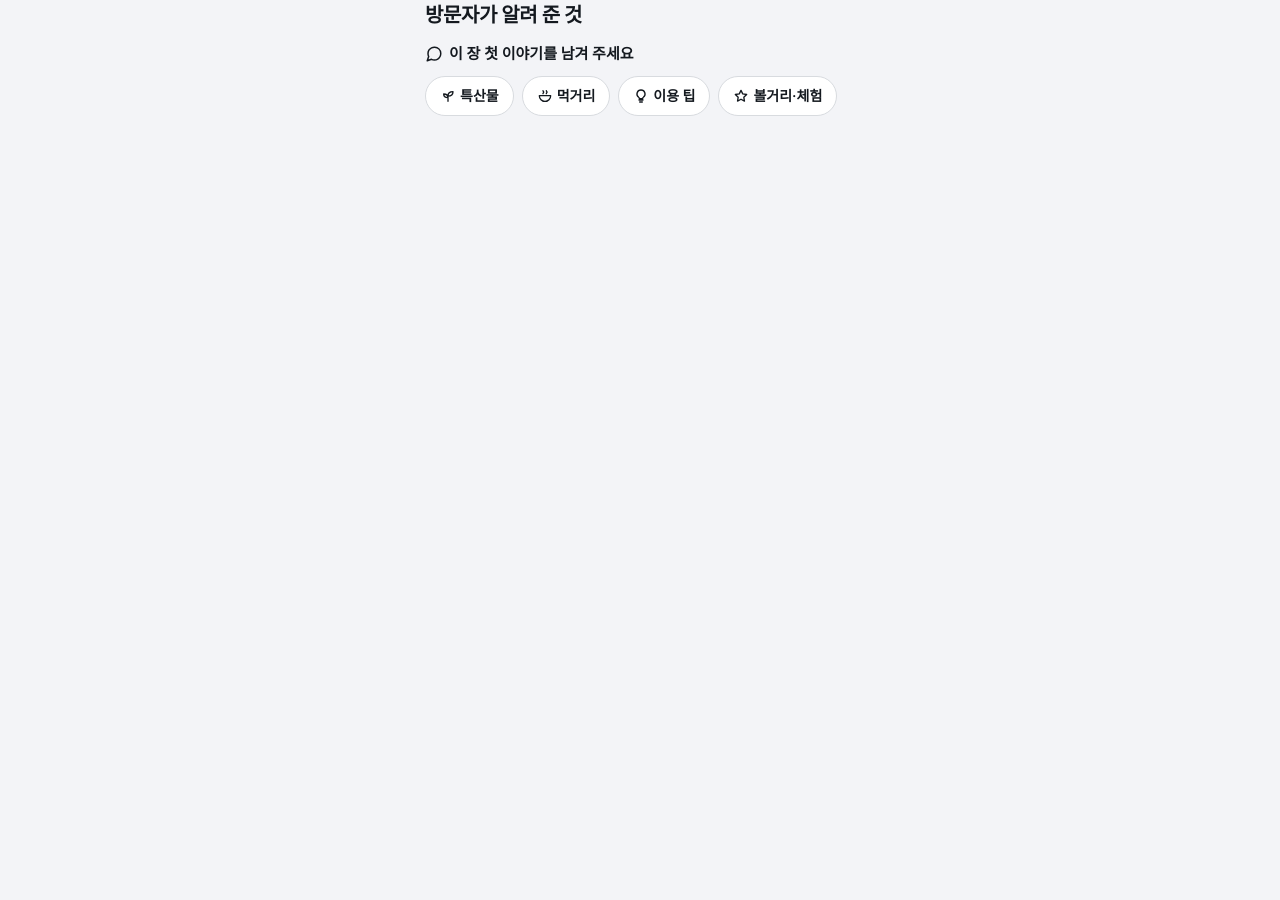
Test case: MarketHighlights › previews the map marker after sending and continues with a nearby market
The width and height of the screenshot is (1280, 900).
Step 1. Click the button with aria-label "특산물 알려 주기" → coordinates (469, 96), box [425, 76, 514, 116]
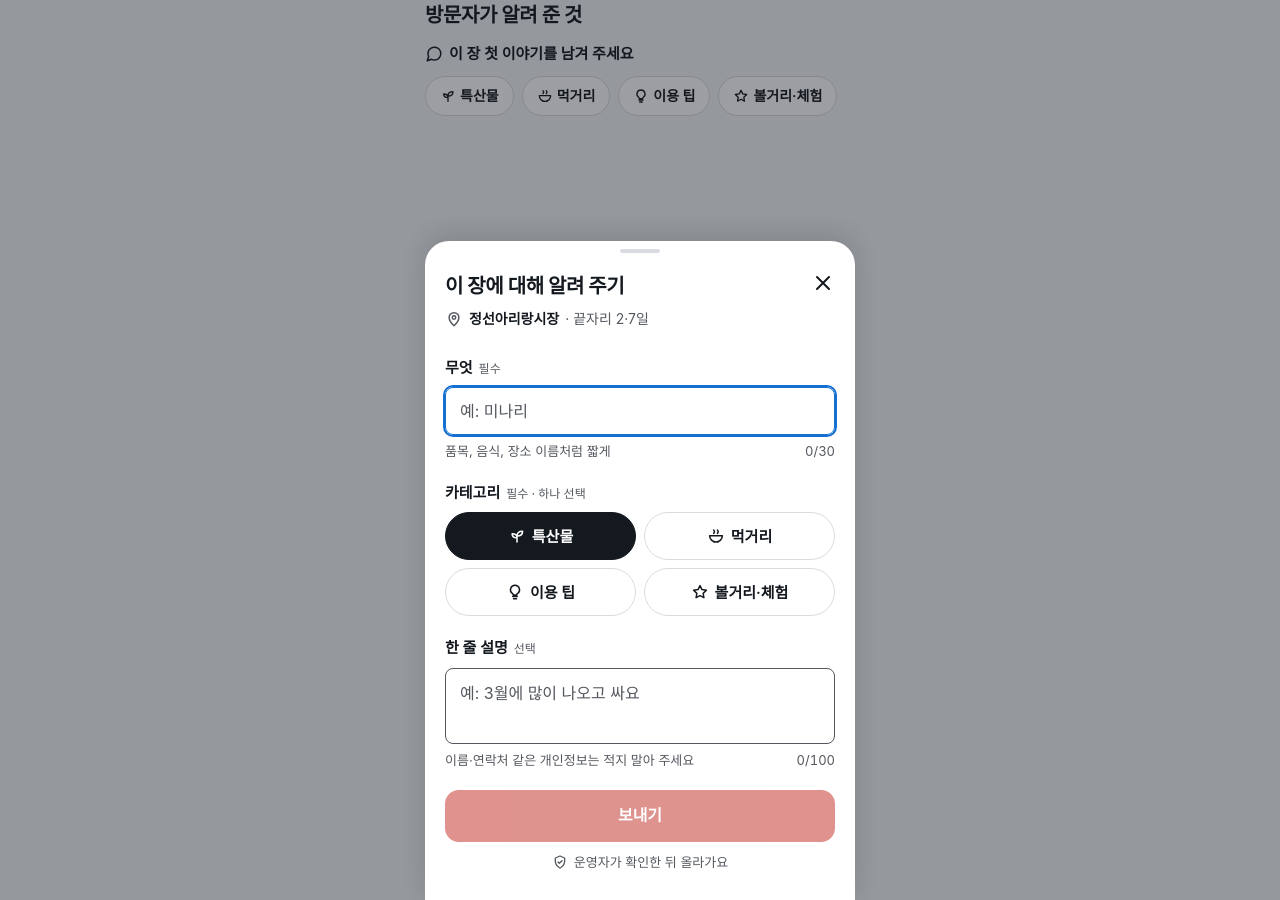
Step 2. Type "곤드레" into the field labelled "무엇 필수" → coordinates (640, 411), box [445, 387, 835, 435]
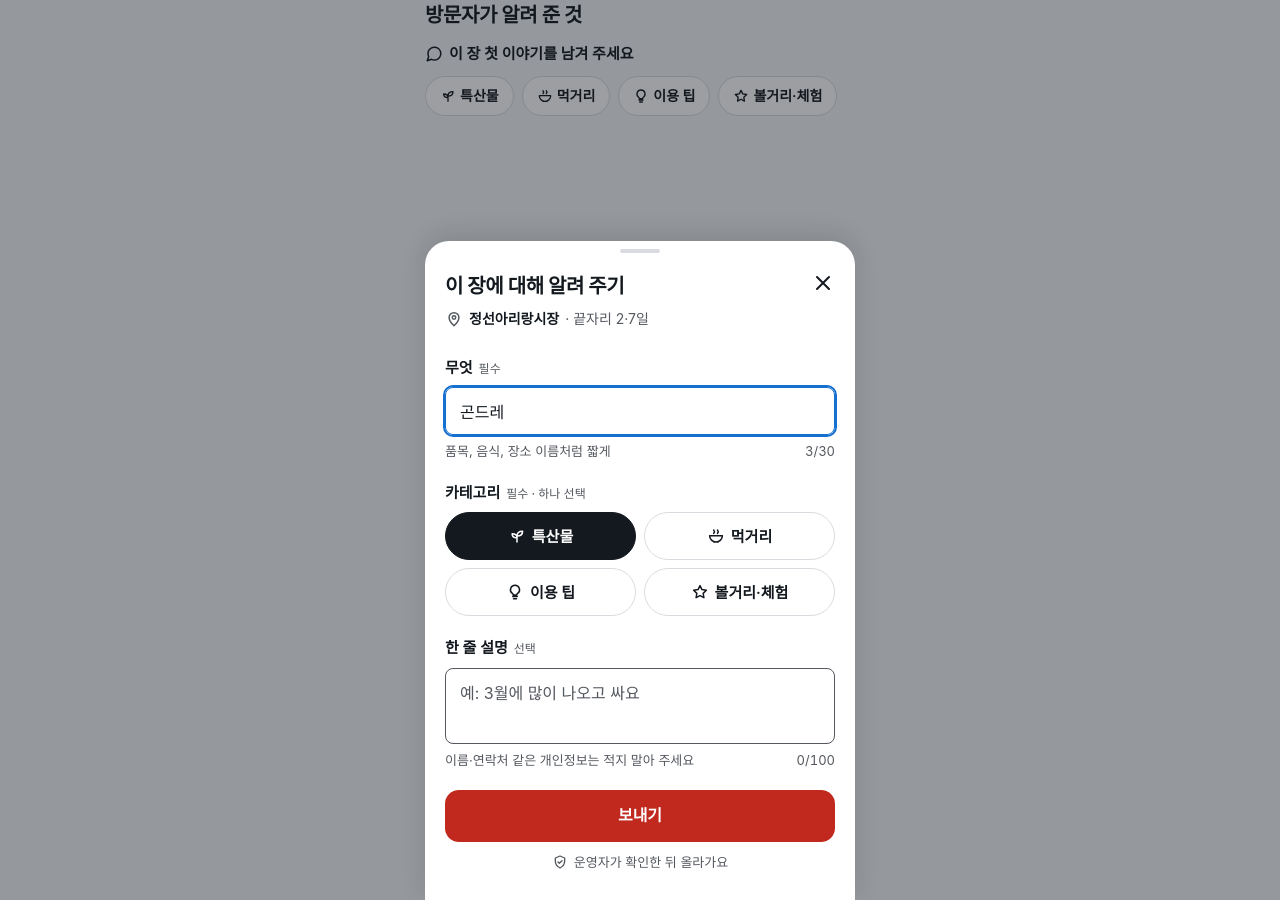
Step 3. Click the button "보내기" → coordinates (640, 816), box [445, 790, 835, 842]
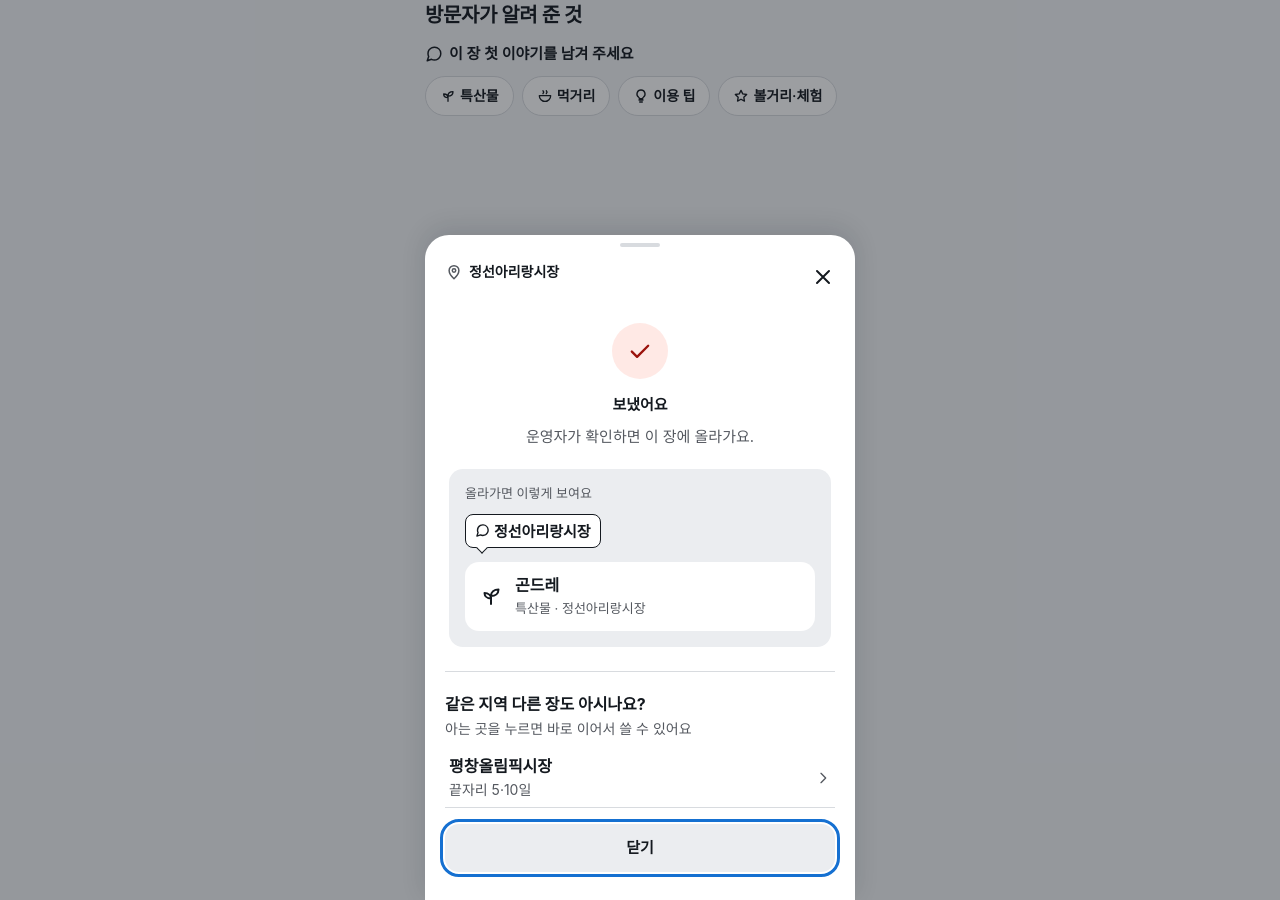
Now the text "올라가면 이렇게 보여요" is shown, box [465, 485, 592, 501]
Now the text "같은 지역 다른 장도 아시나요?" is shown, box [445, 694, 646, 714]
Step 4. Click the button "평창올림픽시장 끝자리 5·10일" → coordinates (501, 766), box [445, 748, 835, 808]
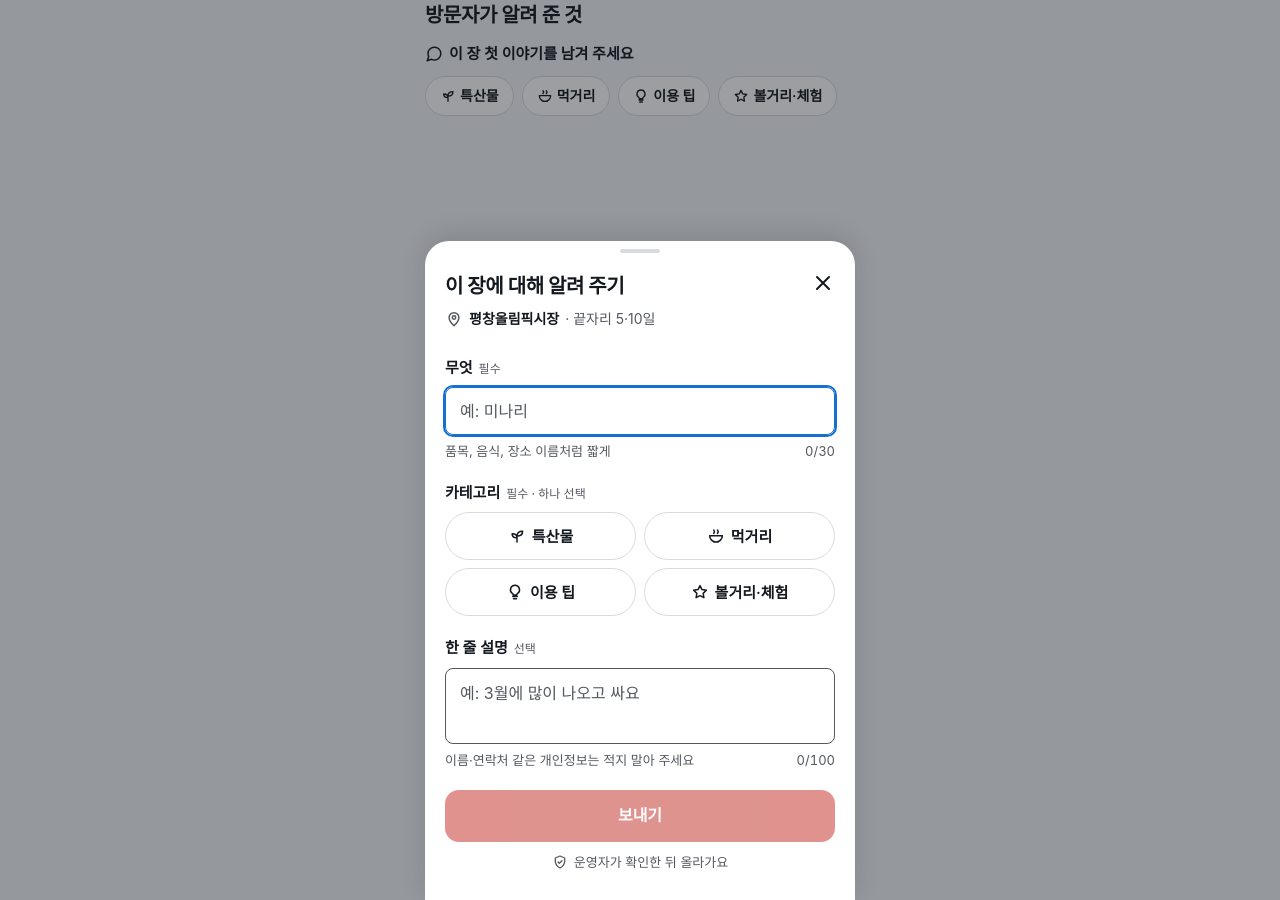
Now the text "평창올림픽시장" is shown, box [469, 308, 559, 330]
Now the field labelled "무엇 필수" is empty, box [445, 387, 835, 435]
